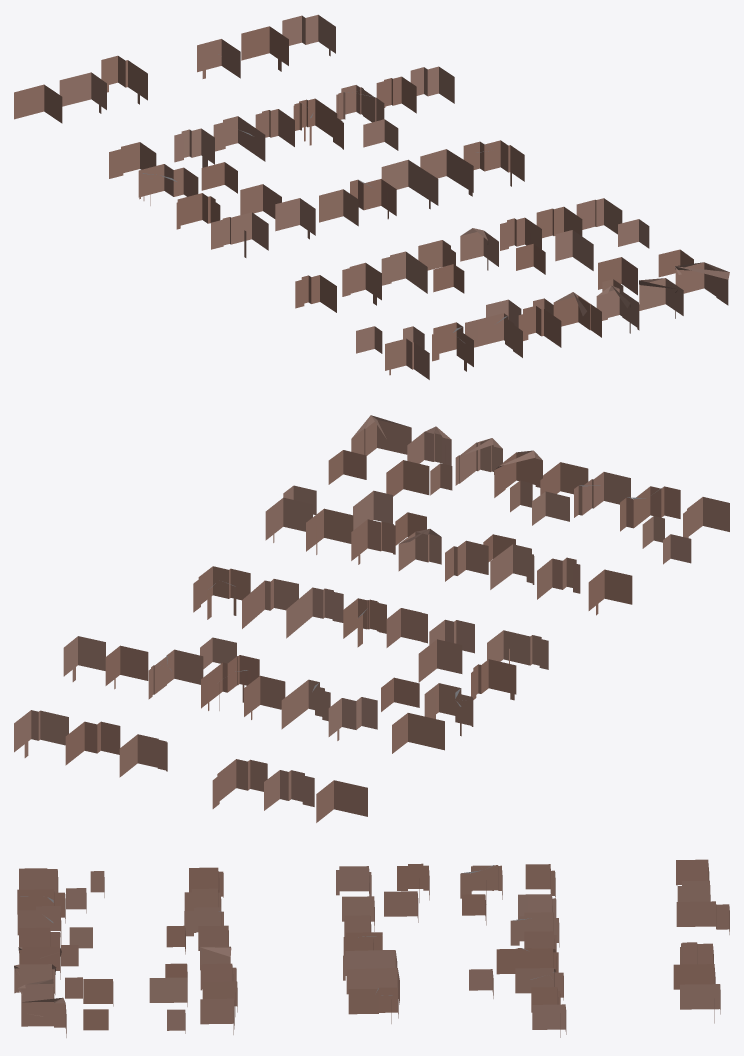
File: c_1643_17823_buildings_residential.glb
3 views of the same model, one above another, from view 1: azimuth 30°, elevation 25°; view 2: azimuth 150°, elevation 25°; view 3: azimuth 270°, elevation 25° (orthographic). The views are drawn at different scales.
Parts seen in each view (by area): view 1: geometry_0; view 2: geometry_0; view 3: geometry_0.
Boxes of the visible parts, left/top/right/bottom form: geometry_0: left=14, top=14, right=729, bottom=379; geometry_0: left=14, top=415, right=729, bottom=822; geometry_0: left=14, top=859, right=729, bottom=1037.
Size of the model in its own units: 128 by 10.94 by 246.
